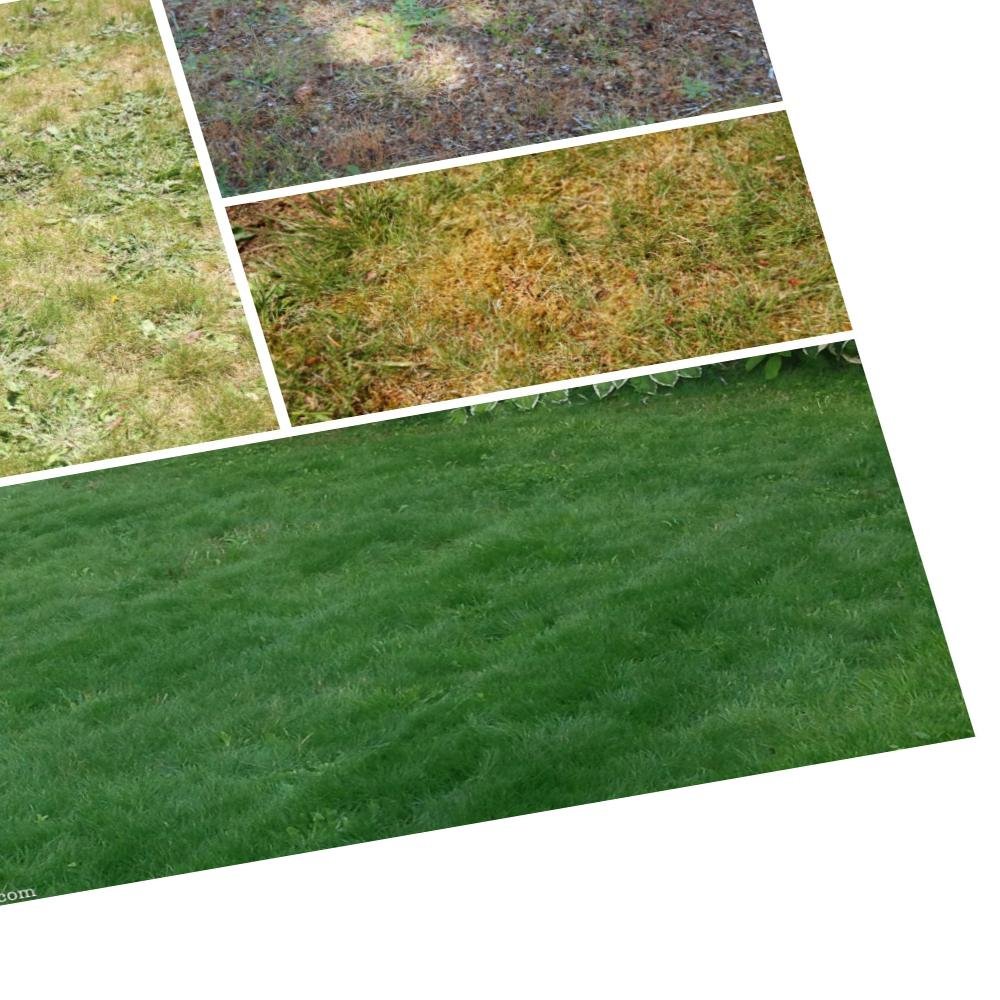patch: (13, 171, 186, 348), (404, 246, 615, 328), (32, 337, 209, 420), (527, 143, 744, 207), (19, 56, 149, 142), (394, 344, 558, 386)
